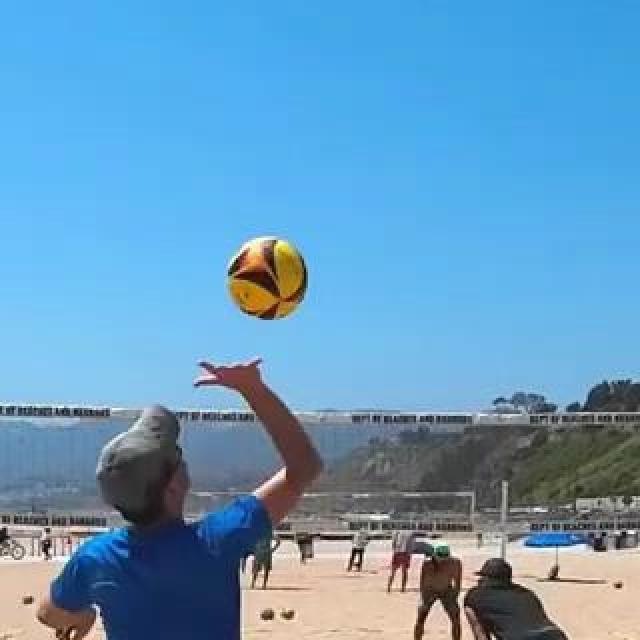volleyball: (228, 235, 306, 315), (281, 607, 295, 621), (261, 607, 275, 621), (614, 581, 622, 589)
